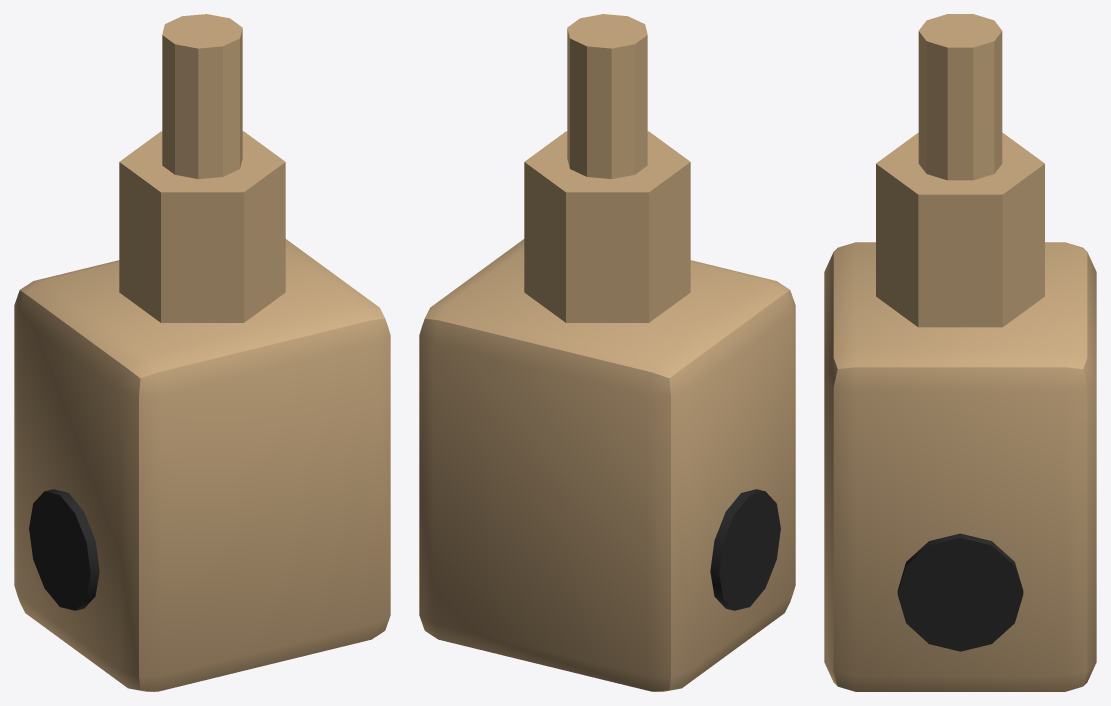
File: ELE-SPD-004.glb
3 views of the same model, side by side, from view 1: azimuth 30°, elevation 25°; view 2: azimuth 150°, elevation 25°; view 3: azimuth 270°, elevation 25° (orthographic).
Visible parts, largest first — view 1: ELE-SPD-004_corpo, ELE-SPD-004_parafuso, ELE-SPD-004_rosca, ELE-SPD-004_canal; view 2: ELE-SPD-004_corpo, ELE-SPD-004_parafuso, ELE-SPD-004_rosca, ELE-SPD-004_canal; view 3: ELE-SPD-004_corpo, ELE-SPD-004_parafuso, ELE-SPD-004_rosca, ELE-SPD-004_canal.
Boxes of the visible parts, x1,y1,x2,y2 form: ELE-SPD-004_corpo: (14,239,390,691); ELE-SPD-004_parafuso: (119,131,285,322); ELE-SPD-004_rosca: (162,14,242,178); ELE-SPD-004_canal: (29,489,99,610); ELE-SPD-004_corpo: (419,239,795,691); ELE-SPD-004_parafuso: (524,131,690,322); ELE-SPD-004_rosca: (567,14,647,178); ELE-SPD-004_canal: (710,489,780,610); ELE-SPD-004_corpo: (824,242,1096,691); ELE-SPD-004_parafuso: (876,132,1044,327); ELE-SPD-004_rosca: (918,14,1002,180); ELE-SPD-004_canal: (897,533,1023,651).
Size of the model in its own units: 0.032 by 0.064 by 0.026.
